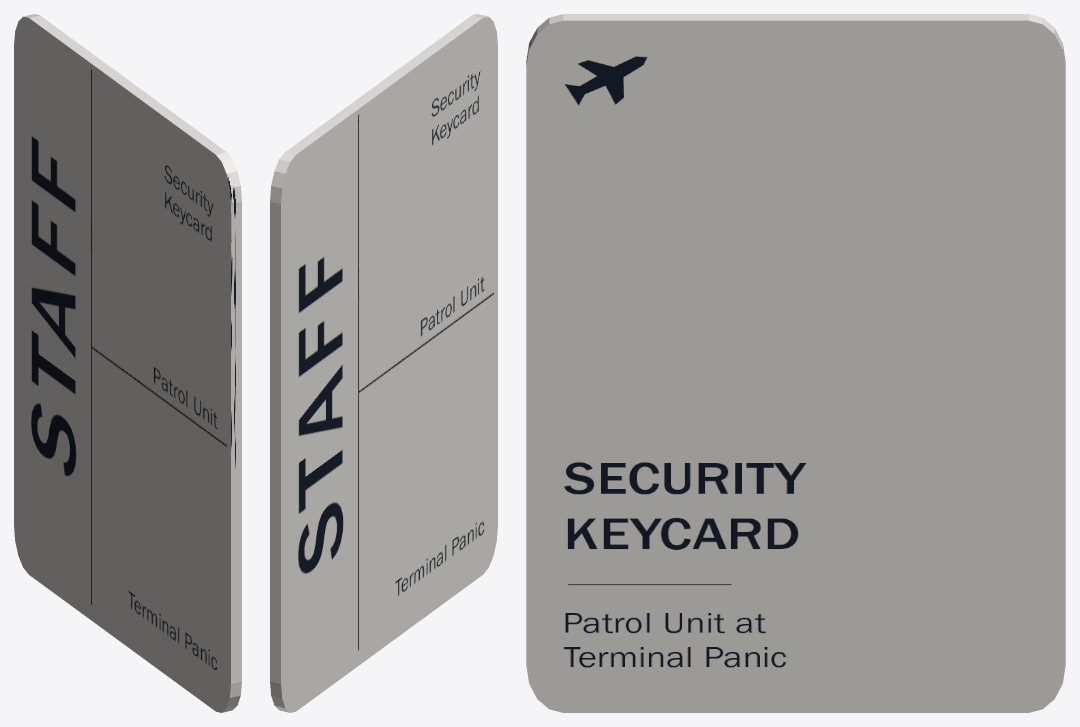
The model's file is securityKeycard.fbx.
3 views of the same model, side by side, from view 1: azimuth 30°, elevation 25°; view 2: azimuth 150°, elevation 25°; view 3: azimuth 270°, elevation 25° (orthographic). The views are drawn at different scales.
Visible parts, largest first — view 1: Cube.001; view 2: Cube.001; view 3: Cube.001.
Boxes of the visible parts, x1,y1,x2,y2 form: Cube.001: [14, 14, 241, 712]; Cube.001: [270, 14, 497, 712]; Cube.001: [526, 14, 1065, 712].
Bounding box in the file's own units: 0.2378 × 11.45 × 8.09.
Materials: 2 (2 with a texture image).
